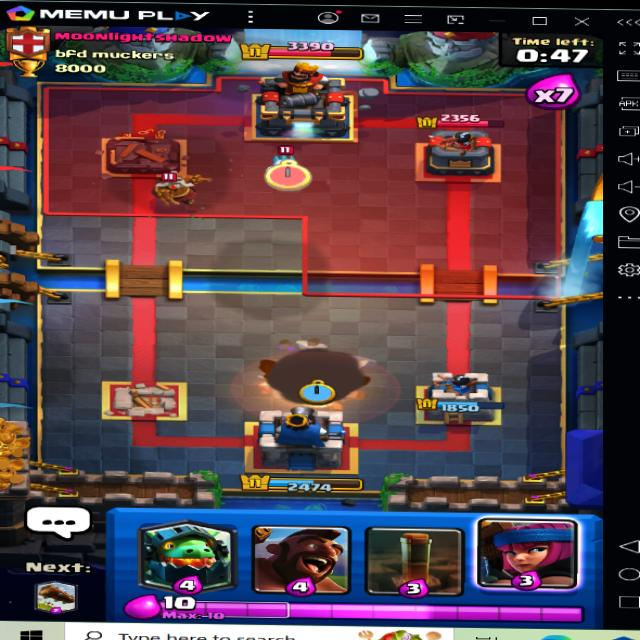ice-spirit: (268, 149, 306, 177)
monk: (136, 168, 210, 209)
